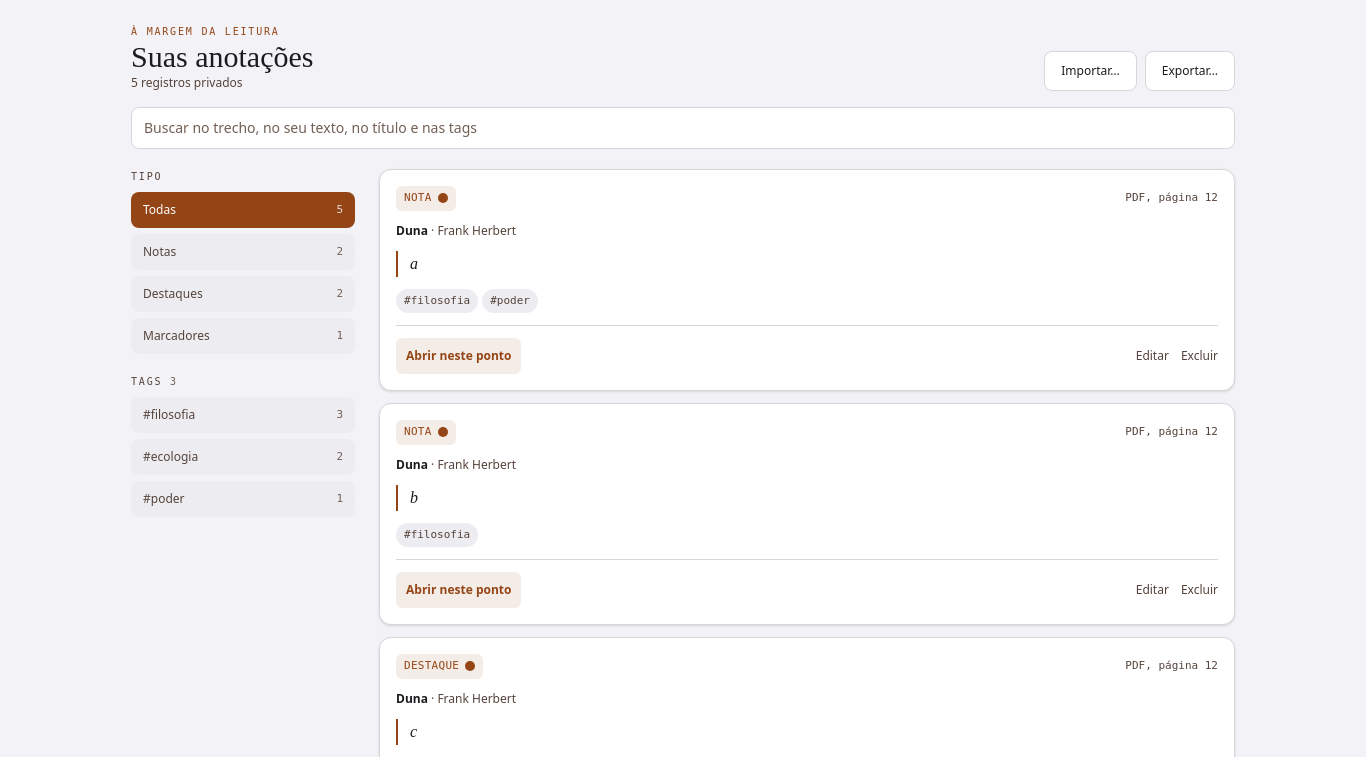
it: NotesPage, the panel that narrows the list › reads the counts again when a note is deleted
Expected: the button "Todas 5" is shown, left=131, top=192, right=355, bottom=228
Click the 1st button "Excluir". click: (1199, 356)
box: left=1181, top=338, right=1218, bottom=374
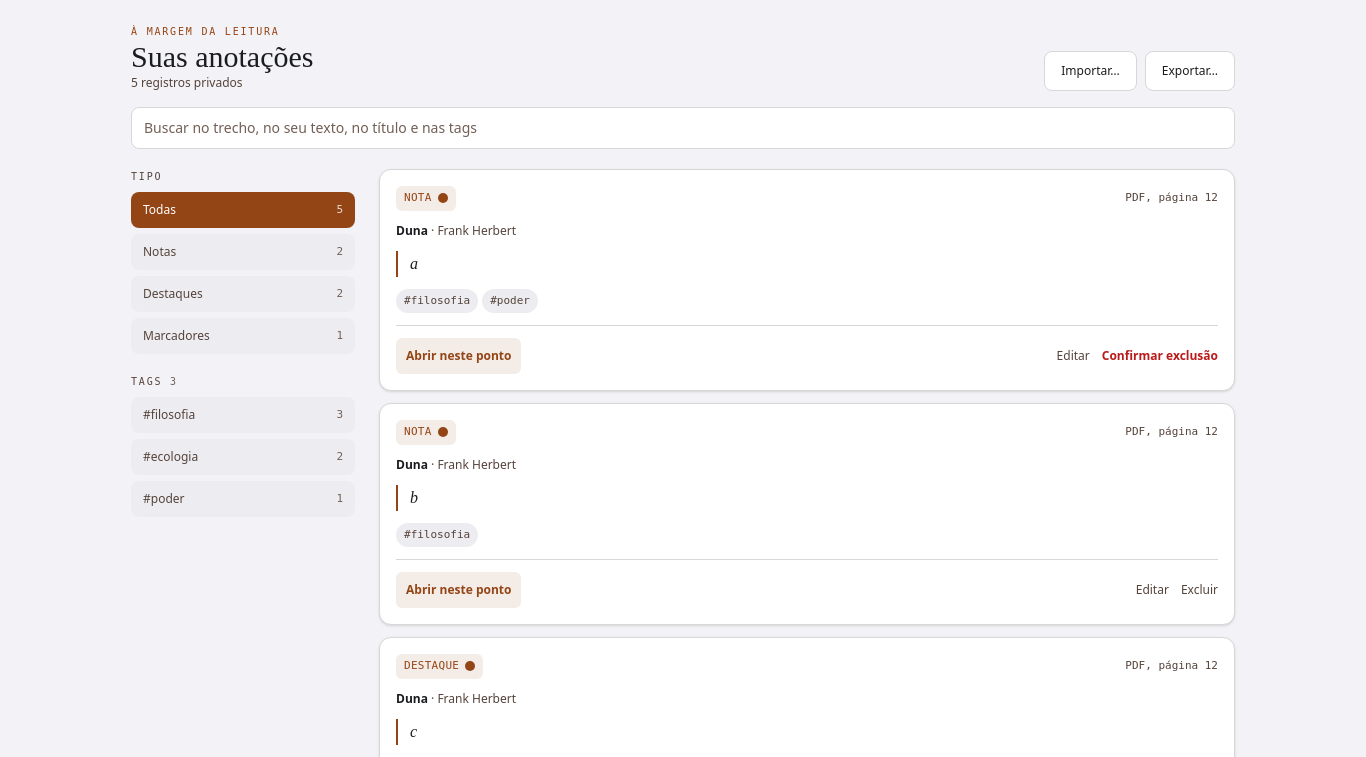
Click the button "Confirmar exclusão". click: (1160, 356)
box: left=1102, top=338, right=1218, bottom=374
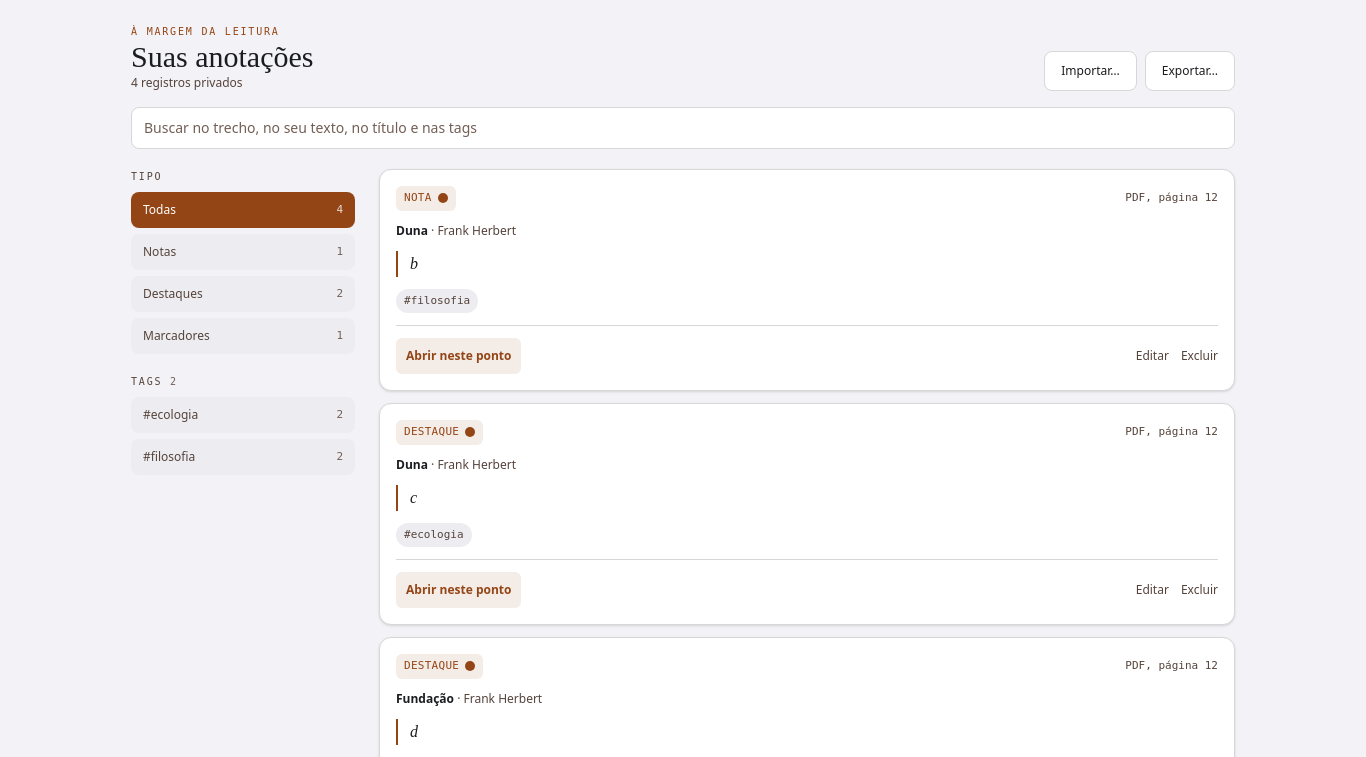
Expected: the button "Todas 4" is shown, left=131, top=192, right=355, bottom=228
Expected: the button "#filosofia 2" is shown, left=131, top=439, right=355, bottom=475
